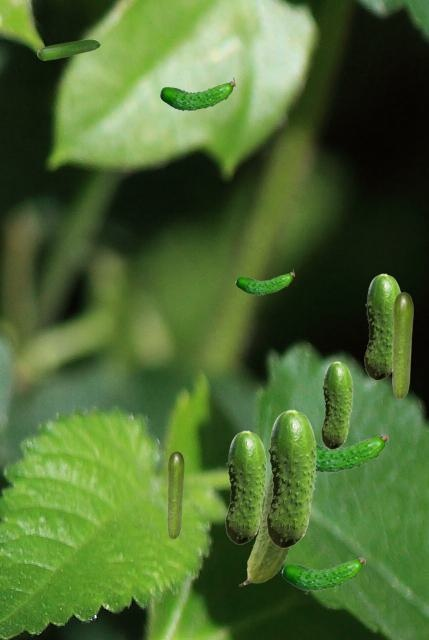cucumber: (266, 409, 316, 547), (239, 473, 291, 585), (225, 430, 266, 543), (364, 273, 401, 379), (281, 553, 364, 590), (316, 429, 387, 472), (321, 361, 352, 448), (159, 77, 234, 110), (392, 292, 412, 398), (235, 269, 293, 294), (167, 451, 183, 538), (37, 39, 99, 59)
